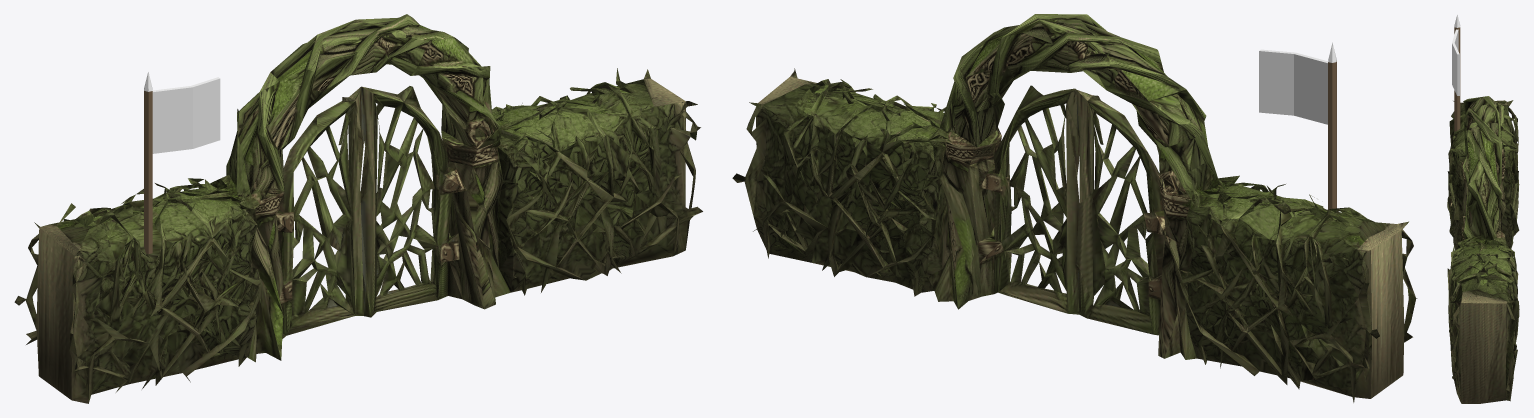
3 views of the same model, side by side, from view 1: azimuth 30°, elevation 25°; view 2: azimuth 150°, elevation 25°; view 3: azimuth 270°, elevation 25° (orthographic). The views are drawn at different scales.
Parts seen in each view (by area): view 1: sylvan_thorn_gate, Team_banner; view 2: sylvan_thorn_gate, Team_banner; view 3: sylvan_thorn_gate, Team_banner.
Boxes of the visible parts, box(x1,y1,x2,y2) form: sylvan_thorn_gate: box(14, 14, 702, 403); Team_banner: box(144, 72, 220, 254); sylvan_thorn_gate: box(732, 14, 1417, 402); Team_banner: box(1259, 42, 1336, 209); sylvan_thorn_gate: box(1447, 96, 1519, 403); Team_banner: box(1452, 14, 1460, 131).
Bounding box in the file's own units: 1.89 × 0.8928 × 0.2713.
3 materials, 1 textured.
